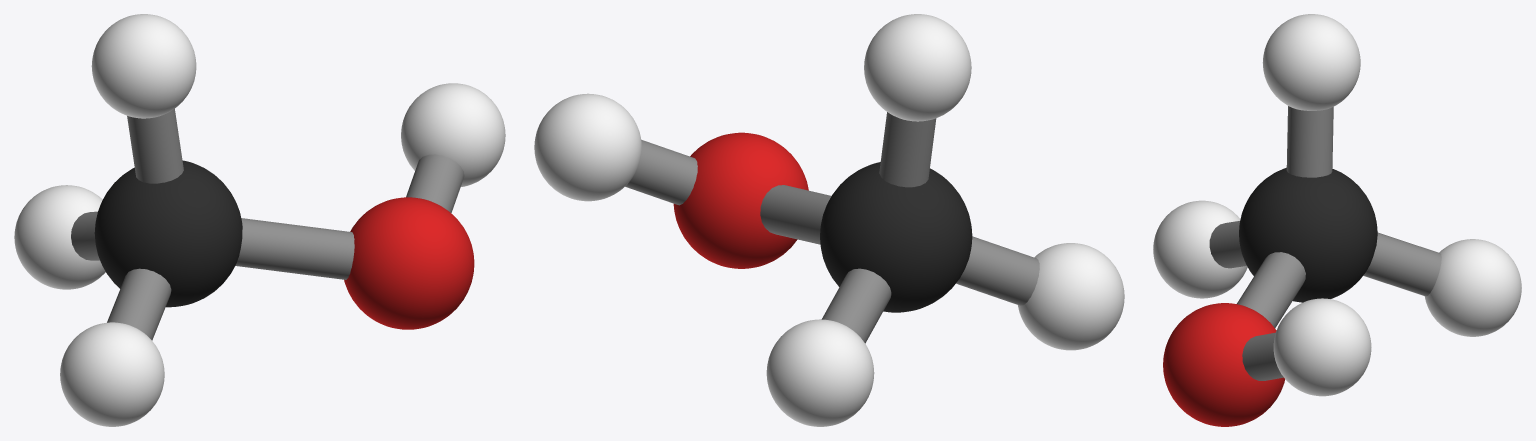
The model's file is methanol.glb.
The picture shows the model from 3 angles, left to right: view 1: azimuth 30°, elevation 25°; view 2: azimuth 150°, elevation 25°; view 3: azimuth 270°, elevation 25°; orthographic projection. The views are drawn at different scales.
Parts seen in each view (by area): view 1: C_0, O_1, H_2, H_4, H_5, H_3, B0, B1, B3, B4, B2; view 2: C_0, O_1, H_2, H_3, H_5, H_4, B3, B1, B0, B2, B4; view 3: C_0, O_1, H_5, H_2, H_3, H_4, B2, B1, B0, B4, B3.
Boxes of the visible parts, x1,y1,x2,y2 form: C_0: [94, 160, 242, 307]; O_1: [344, 197, 474, 329]; H_2: [91, 14, 196, 118]; H_4: [60, 322, 164, 426]; H_5: [401, 83, 505, 186]; H_3: [14, 185, 105, 289]; B0: [235, 218, 354, 279]; B1: [127, 108, 183, 183]; B3: [107, 268, 171, 340]; B4: [406, 154, 464, 213]; B2: [71, 211, 99, 260]; C_0: [820, 162, 972, 312]; O_1: [673, 132, 808, 268]; H_2: [864, 14, 971, 121]; H_3: [766, 319, 874, 426]; H_5: [534, 93, 641, 201]; H_4: [1018, 243, 1124, 350]; B3: [956, 236, 1039, 305]; B1: [879, 112, 936, 187]; B0: [760, 185, 831, 244]; B2: [821, 268, 891, 343]; B4: [625, 140, 697, 205]; C_0: [1239, 167, 1377, 302]; O_1: [1163, 303, 1285, 426]; H_5: [1273, 298, 1371, 396]; H_2: [1262, 14, 1360, 110]; H_3: [1424, 239, 1521, 336]; H_4: [1153, 200, 1247, 298]; B2: [1363, 232, 1441, 296]; B1: [1286, 106, 1333, 177]; B0: [1237, 252, 1305, 328]; B4: [1242, 332, 1283, 380]; B3: [1209, 221, 1246, 268].
Bounding box in the file's own units: 3.28 × 2.14 × 2.26.
